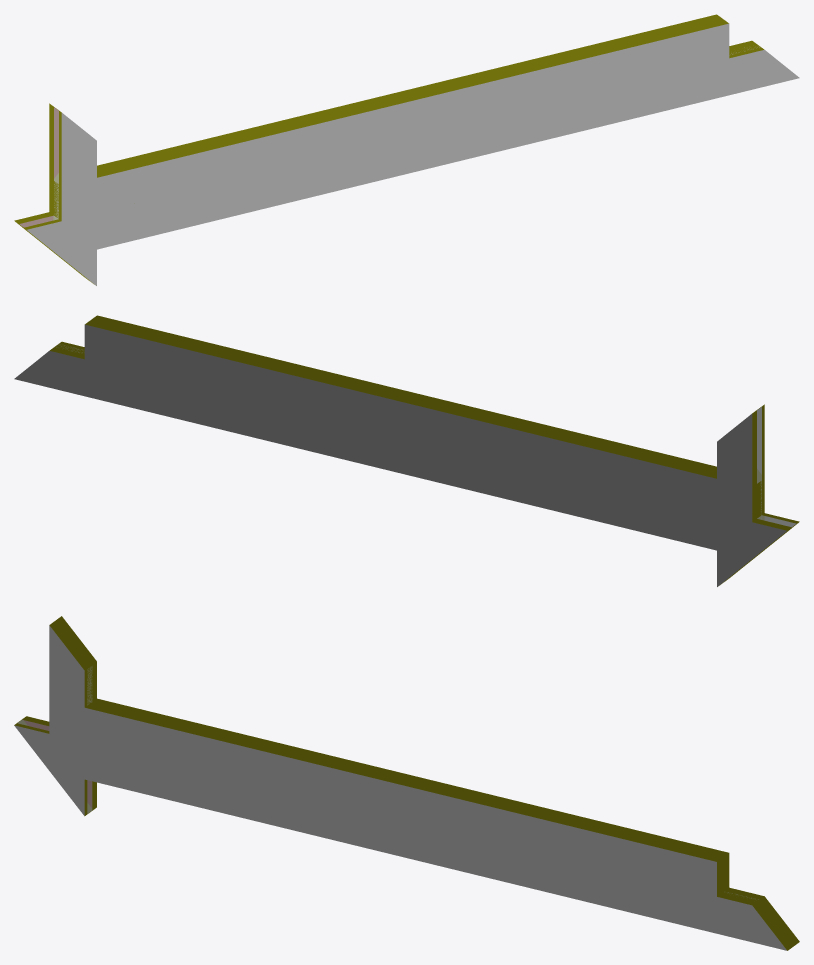
The model's file is idf.obj.
3 renders of one model, top to bottom at view 1: azimuth 30°, elevation 25°; view 2: azimuth 150°, elevation 25°; view 3: azimuth 330°, elevation 25°, orthographic.
Size of the model in its own units: 104 by 23.47 by 2.9.
